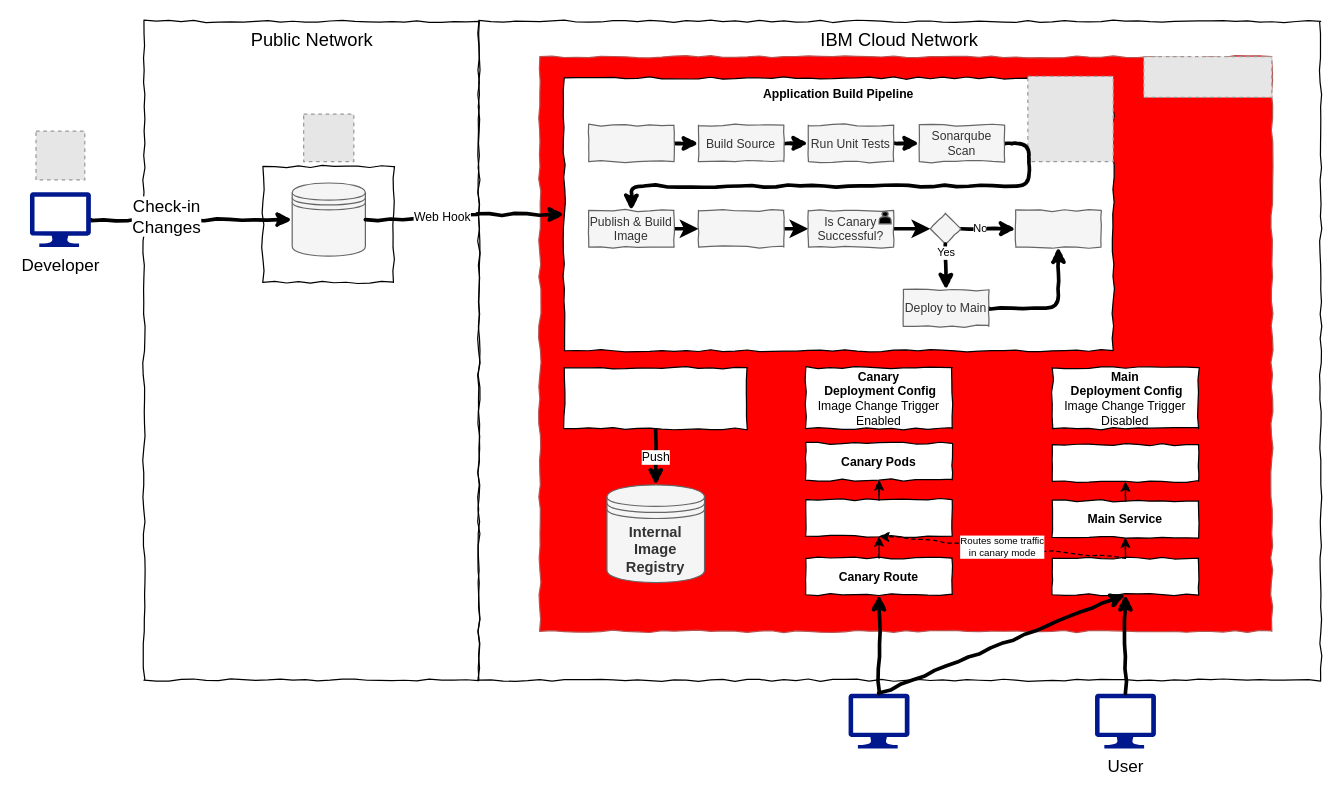
This 1342x799 diagram has some shape labels left out. Grey dashed boxes stand in for pictures. Each missing label, with the centre of its shape:
"Build Config Source: Binary Builder: dotnet-31-rhel7" goes at pixel 655 397.
"Canary Service" goes at pixel 878 517.
"Clone Source" goes at pixel 630 143.
"Main Pods" goes at pixel 1125 462.
"Main Route" goes at pixel 1125 576.
"Repo" goes at pixel 328 219.
"Route All Trafic to Main" goes at pixel 1057 228.
"Route Some Traffic to Canary" goes at pixel 740 228.
"Test User" goes at pixel 878 720.
